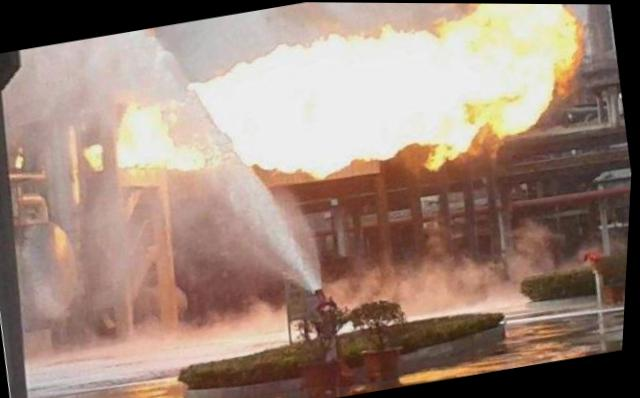fire: (197, 1, 586, 180), (109, 98, 177, 171), (79, 138, 113, 174), (168, 141, 206, 170)
